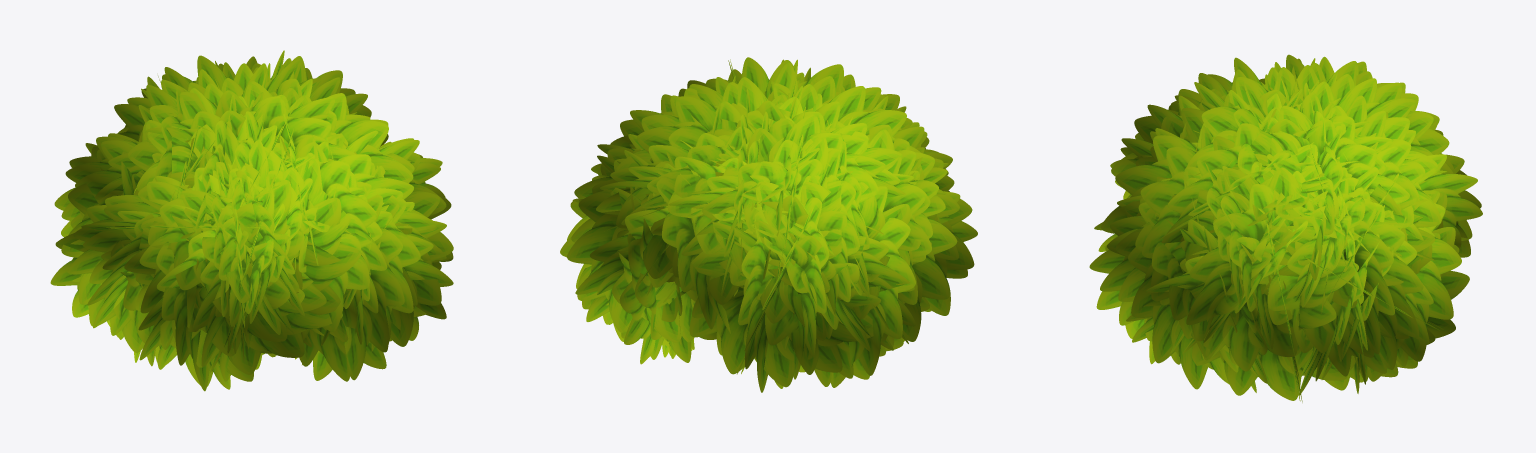
The model's file is Bush1.fbx.
3 renders of one model, left to right at view 1: azimuth 30°, elevation 25°; view 2: azimuth 150°, elevation 25°; view 3: azimuth 270°, elevation 25°, orthographic.
Parts seen in each view (by area): view 1: Bush1; view 2: Bush1; view 3: Bush1.
Boxes of the visible parts, left/top/right/bottom form: Bush1: left=50, top=50, right=453, bottom=391; Bush1: left=560, top=57, right=977, bottom=392; Bush1: left=1089, top=54, right=1482, bottom=402.
Size of the model in its own units: 1232 by 1024 by 1239.
